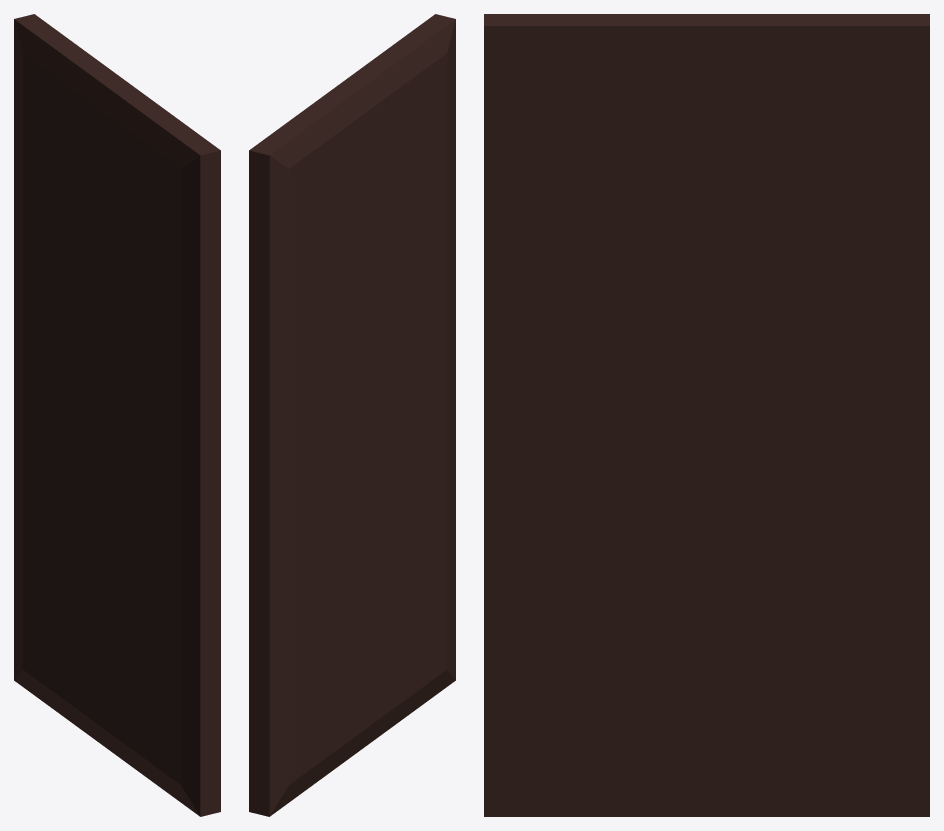
The model's file is PuertaEstanteria2.fbx.
3 views of the same model, side by side, from view 1: azimuth 30°, elevation 25°; view 2: azimuth 150°, elevation 25°; view 3: azimuth 270°, elevation 25° (orthographic). The views are drawn at different scales.
Visible parts, largest first — view 1: PuertaMueble1; view 2: PuertaMueble1; view 3: PuertaMueble1.
Boxes of the visible parts, x1=… form: PuertaMueble1: x1=14, y1=14, x2=220, y2=816; PuertaMueble1: x1=249, y1=14, x2=455, y2=816; PuertaMueble1: x1=484, y1=14, x2=929, y2=816.
Bounding box in the file's own units: 3.78 × 92.66 × 47.34.
